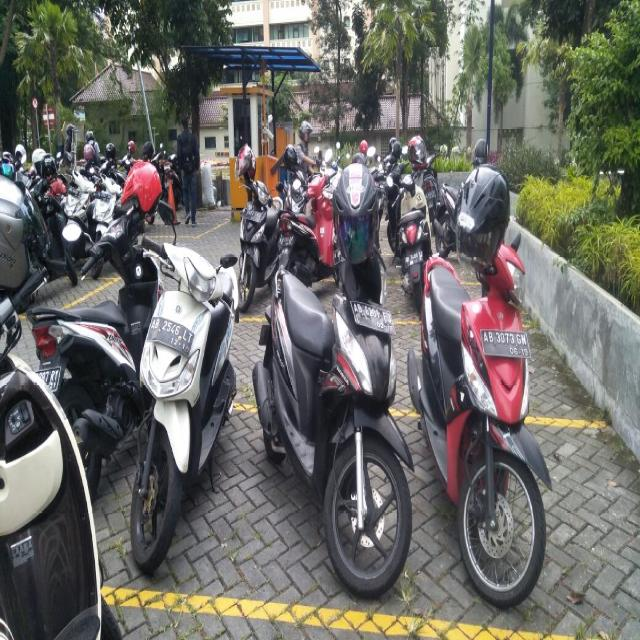plate: (146, 317, 194, 358), (349, 297, 395, 336), (480, 326, 532, 358)
